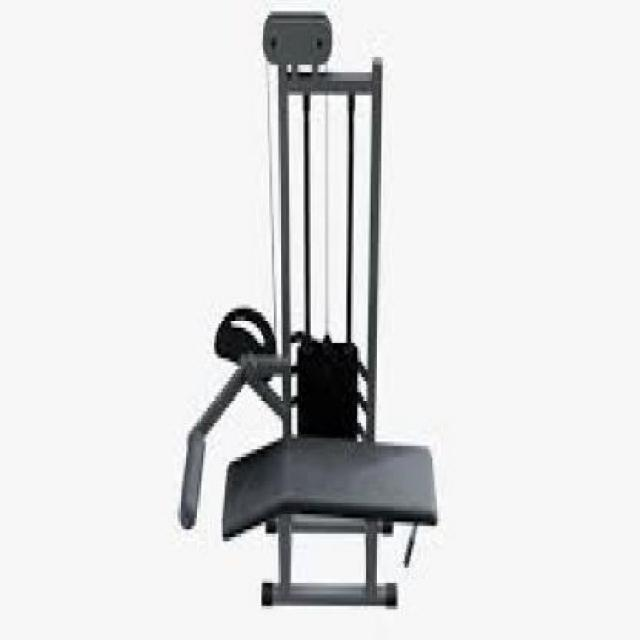reg curl machine: (180, 11, 440, 615)
